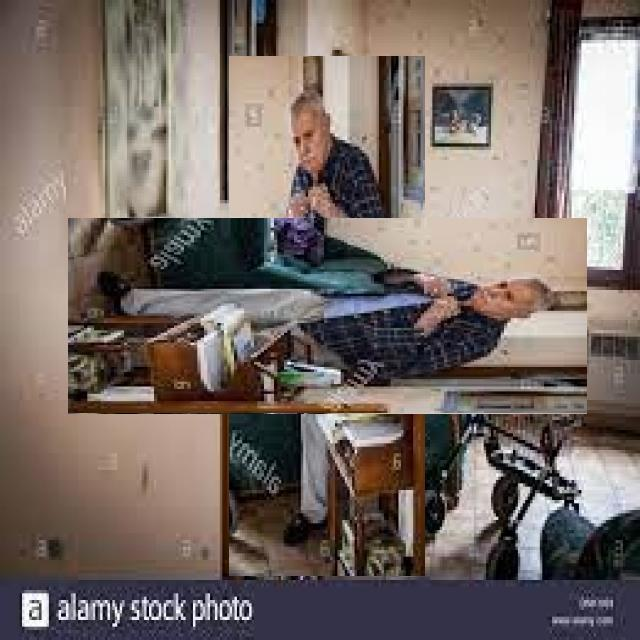NotFall: (85, 159, 588, 443)
